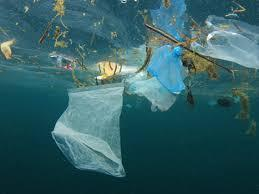Plastic bag: (115, 2, 205, 114), (50, 69, 132, 181)
